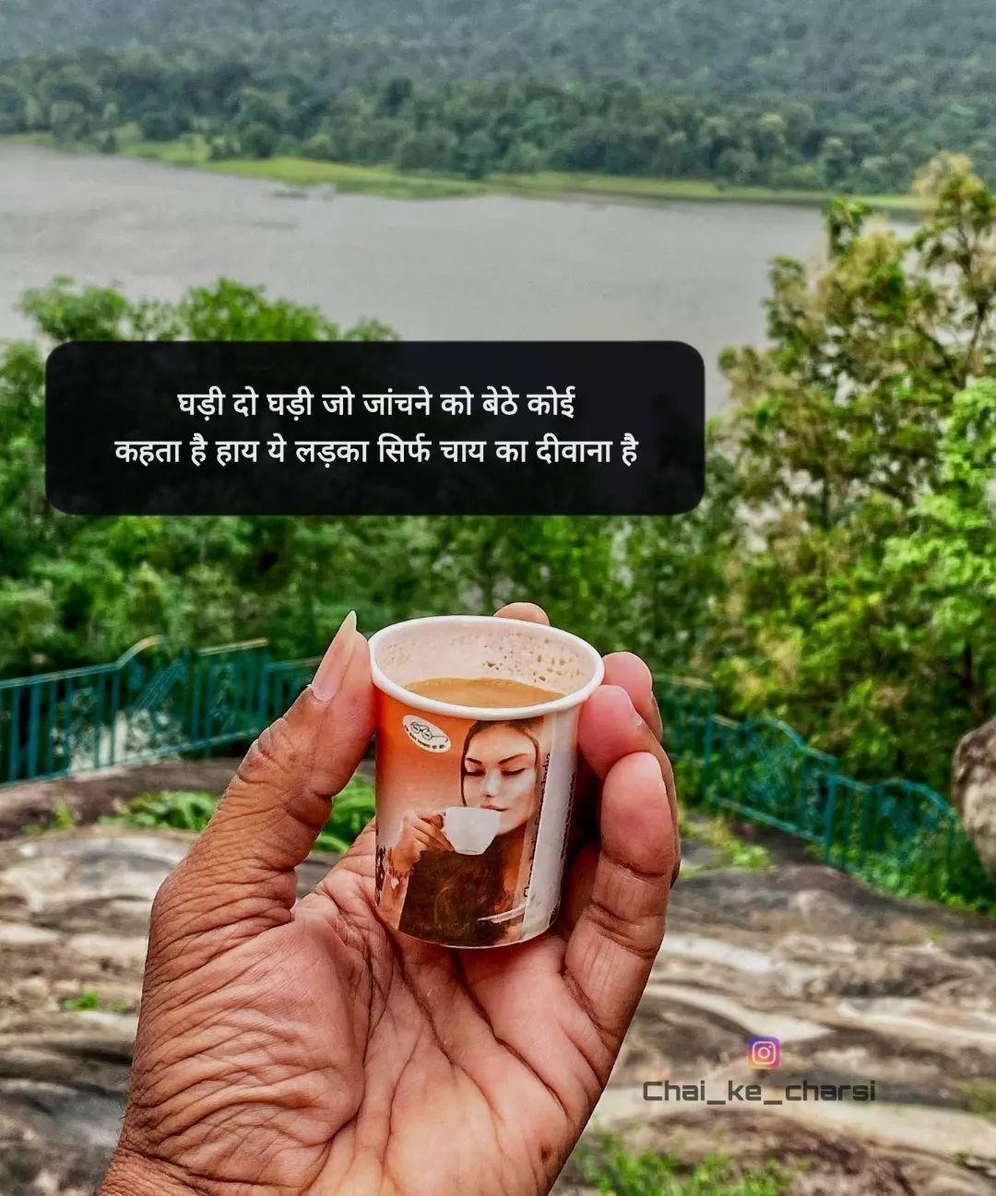cup-disposable: (356, 607, 614, 963)
